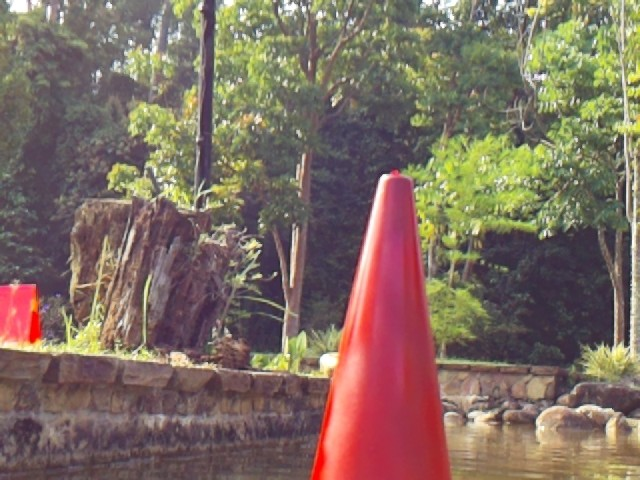obstacle: (309, 174, 453, 479)
